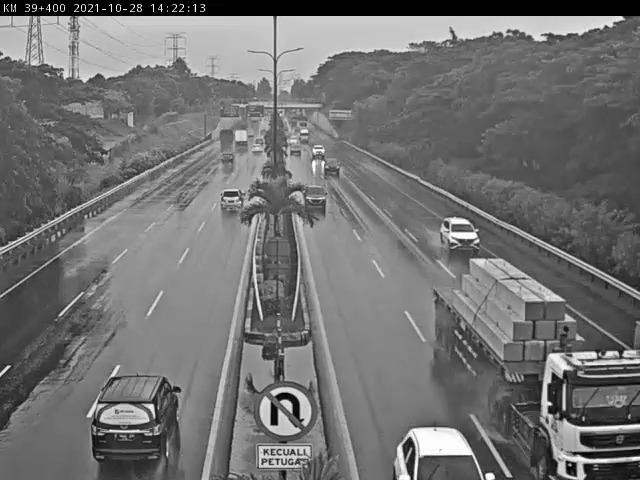big truck: (501, 328, 640, 480)
car: (86, 358, 186, 472), (389, 424, 497, 480), (440, 215, 485, 253), (216, 183, 245, 216), (302, 180, 329, 215), (215, 148, 238, 168), (320, 159, 341, 176), (310, 140, 328, 159)
